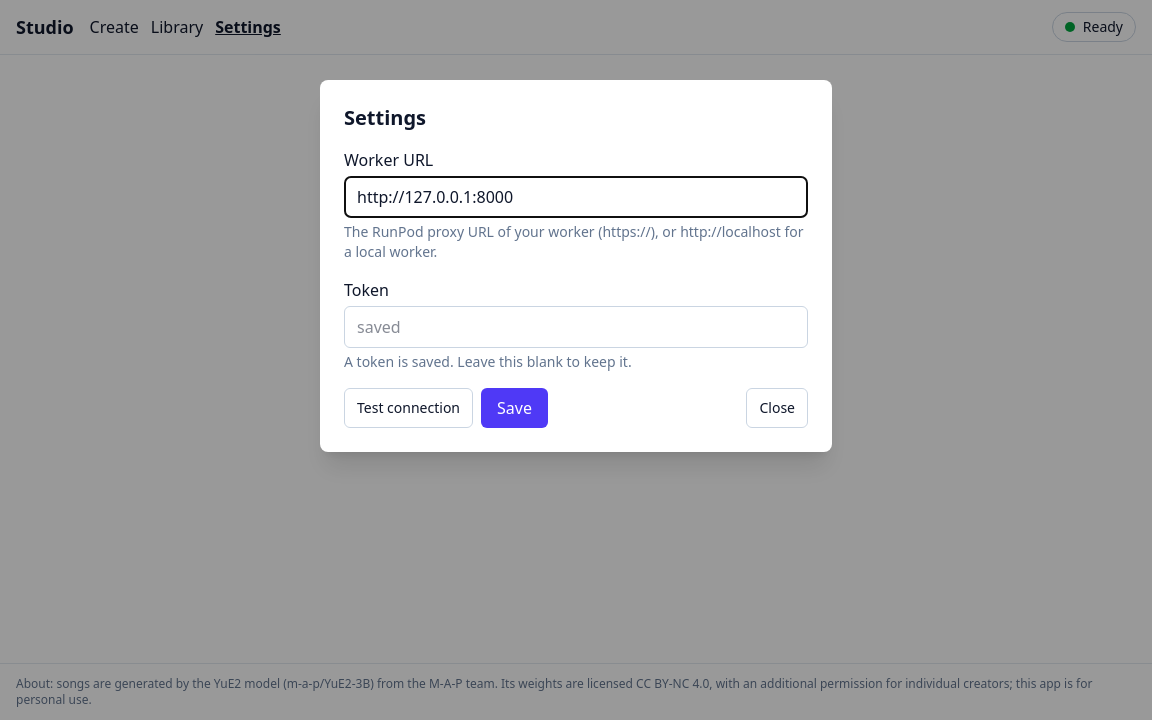
settings dialog (U-5) › a blank token is left out of the PUT, so the saved one is kept
Replace the text in the field labelled "Worker URL" with "https://pod-8000.proxy.runpod.net" at (576, 197), box [344,176,808,218]
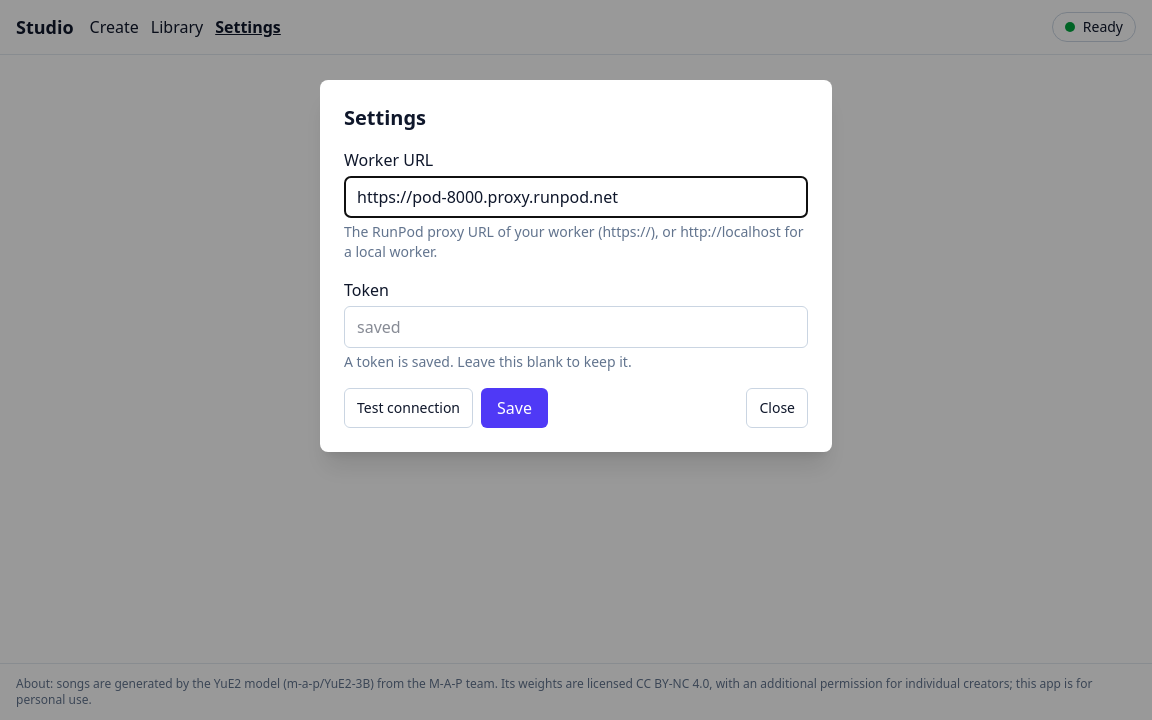
Click the button "Save" at (514, 408), box [481,388,548,428]
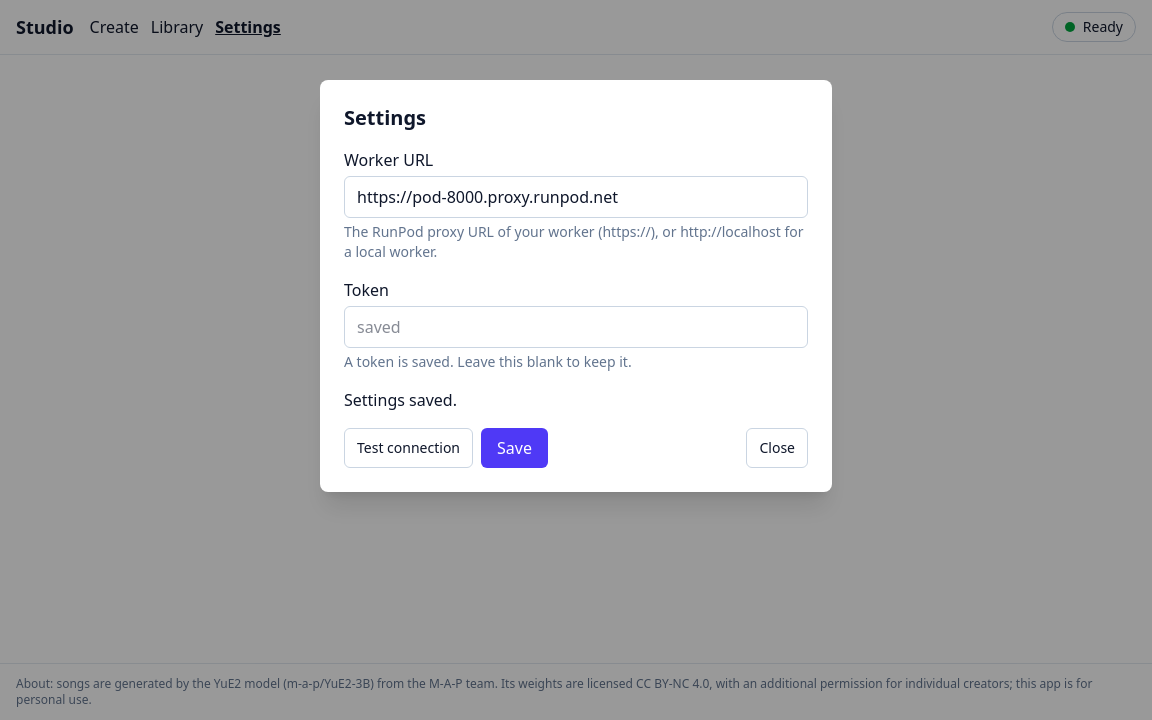
Now the text "Settings saved." is shown, box [344,389,457,411]
